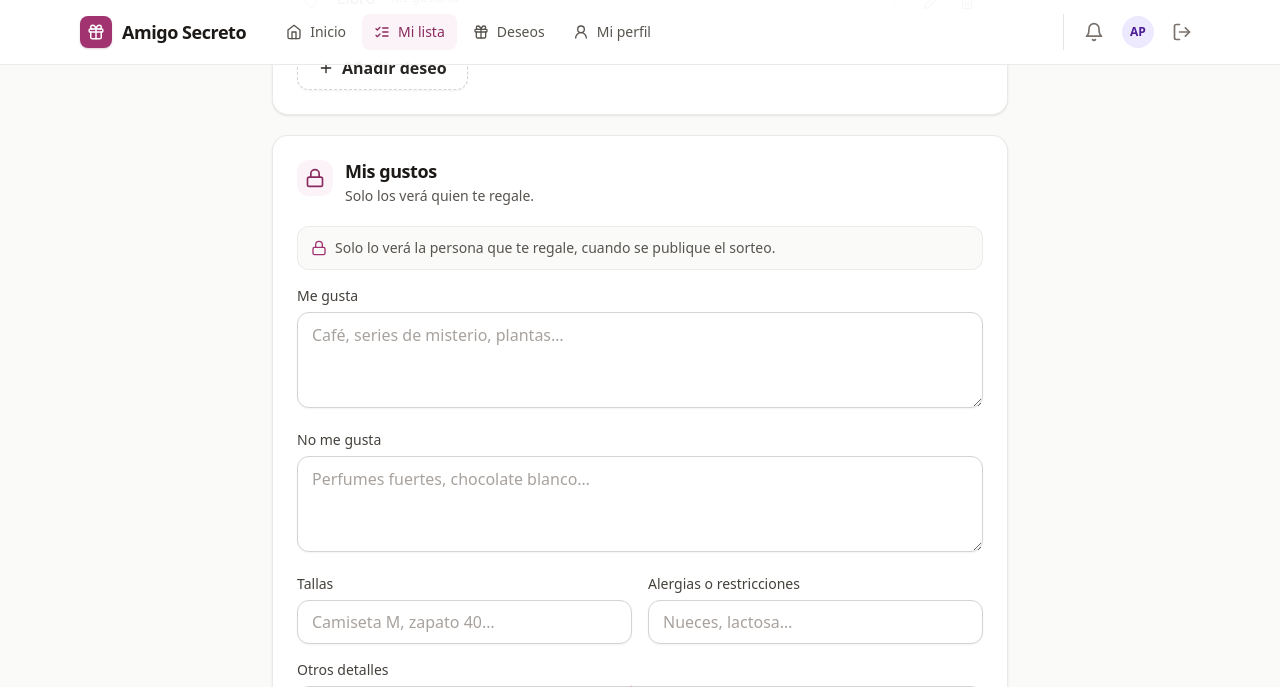
it: MyListPage › guarda los gustos
The image size is (1280, 687).
(page scrolled)
Step 1. Type "Café" into the text box labelled "Me gusta" → (640, 360), box x1=297 y1=312 x2=983 y2=408
(page scrolled)
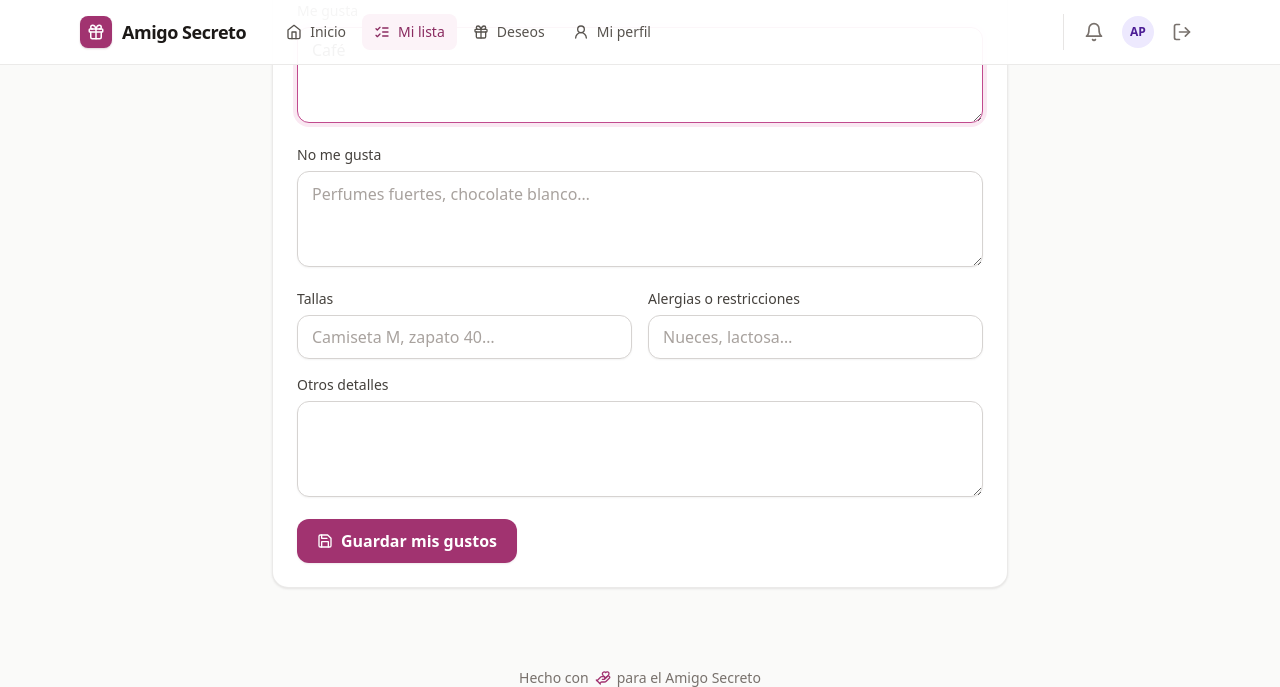
Step 2. Click the button "Guardar mis gustos" → (407, 541), box x1=297 y1=519 x2=517 y2=563
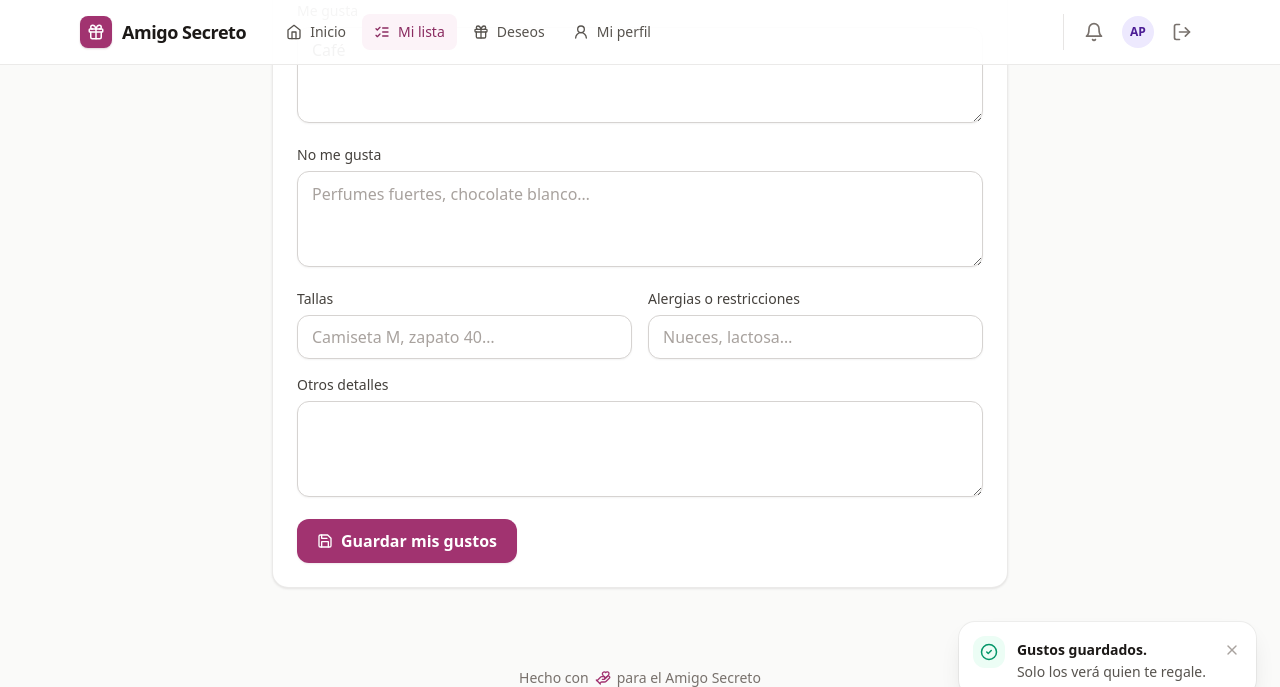
Now the text "Gustos guardados." is shown, box x1=1017 y1=640 x2=1147 y2=659
